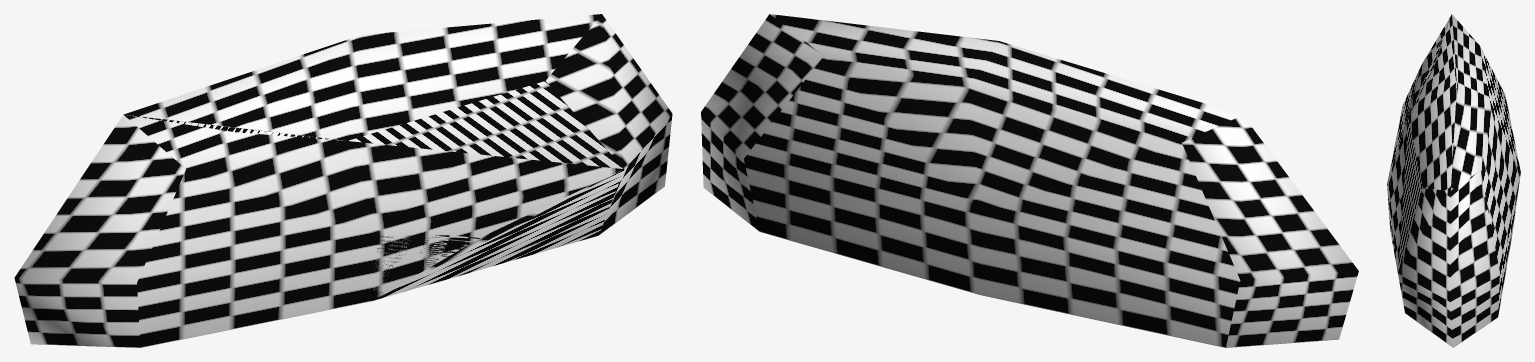
The model's file is nast24.dae.
3 views of the same model, side by side, from view 1: azimuth 30°, elevation 25°; view 2: azimuth 150°, elevation 25°; view 3: azimuth 270°, elevation 25° (orthographic). The views are drawn at different scales.
Parts seen in each view (by area): view 1: stone00, stone02; view 2: stone00; view 3: stone00, stone02.
Part boxes in pixels (<box>): stone00: <box>14,14,672,347</box>; stone02: <box>127,81,624,301</box>; stone00: <box>701,14,1358,347</box>; stone00: <box>1387,14,1520,347</box>; stone02: <box>1389,17,1450,273</box>.
Bounding box in the file's own units: 1.3 × 0.3214 × 0.4202.
Materials: 1 (1 with a texture image).
